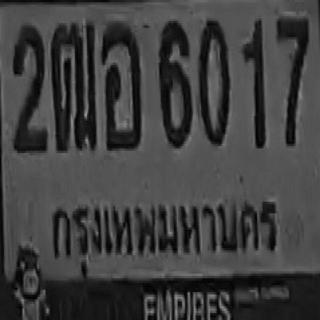A18: (50, 20, 96, 152)
A43: (100, 22, 141, 150)
N00: (197, 18, 230, 146)
N01: (242, 17, 265, 150)
N02: (11, 23, 46, 151)
N06: (159, 19, 192, 148)
N07: (275, 16, 309, 146)
P04: (43, 187, 284, 280)
